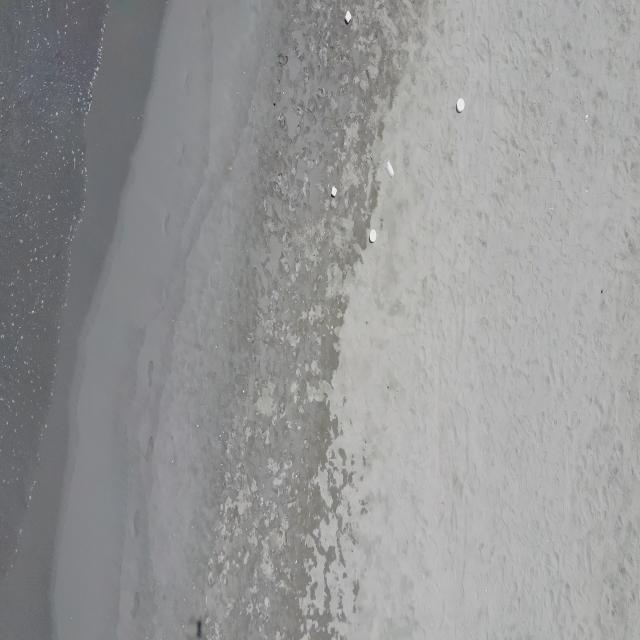take-away-containers: (456, 97, 465, 113), (369, 229, 377, 242), (345, 10, 352, 24), (331, 186, 337, 197)
takeaway-cup: (385, 159, 395, 178)
